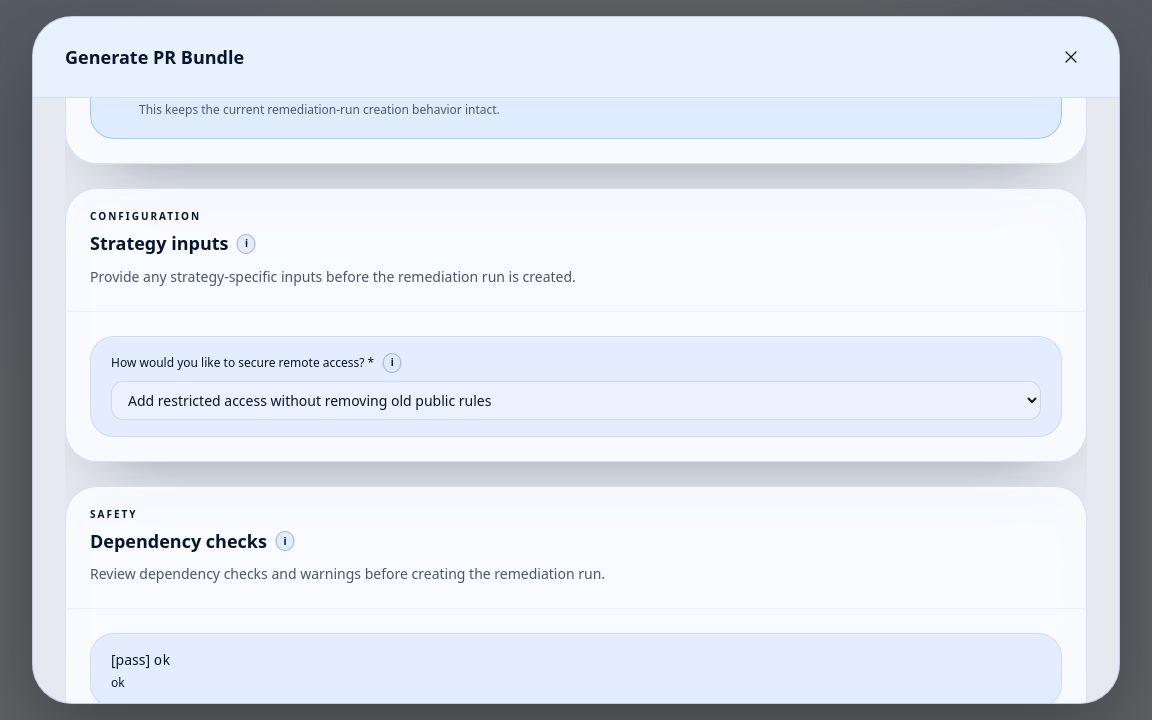
Scenario: RemediationModal › detects public IP and prefills EC2.53 CIDR input
(page scrolled)
Select "Restrict to my IP" in the dropdown labelled "How would you like to secure remote access? *": (576, 400) [111,381,1041,420]
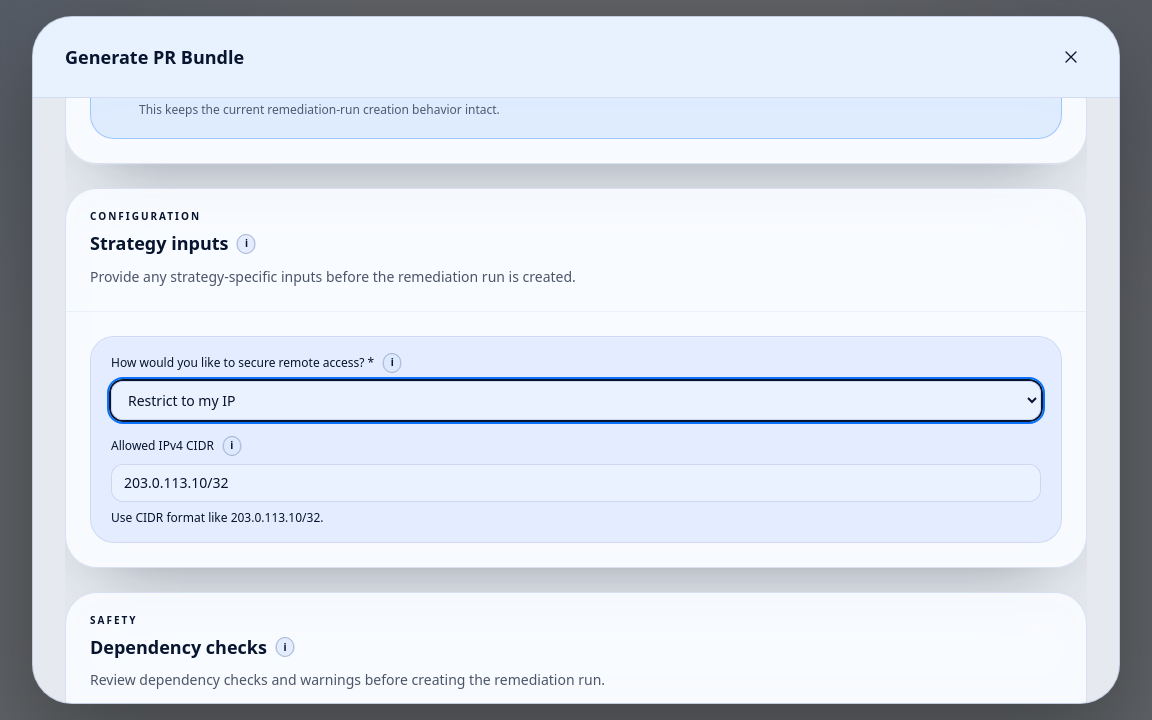
Check: the field labelled "Allowed IPv4 CIDR" holds "203.0.113.10/32", box [111,464,1041,502]
